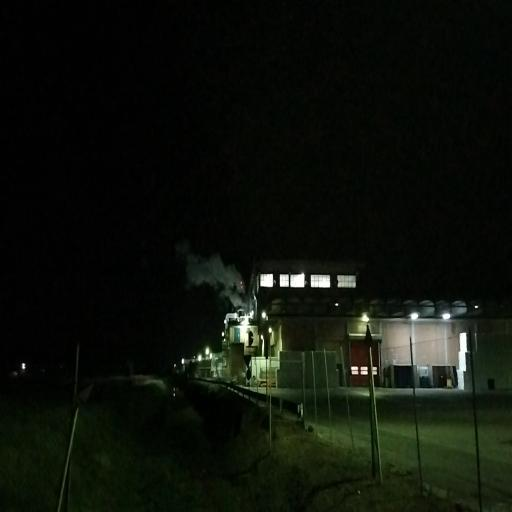leakage: (179, 226, 254, 318)
